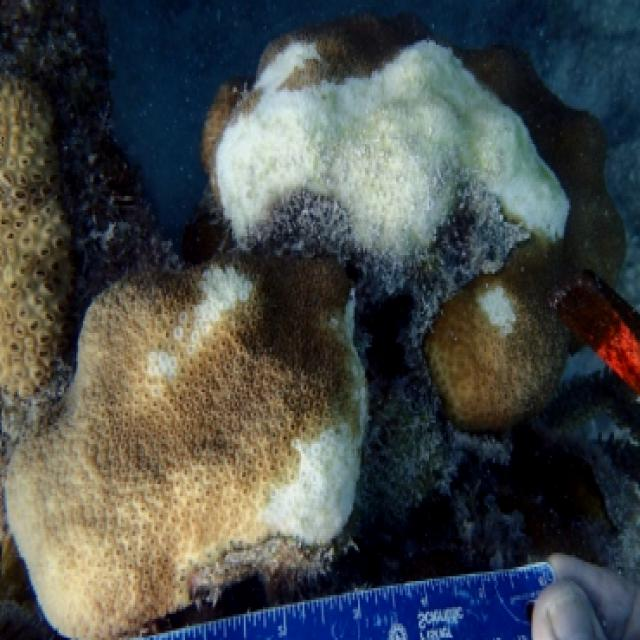Coral: (5, 9, 626, 640), (0, 80, 75, 397)
